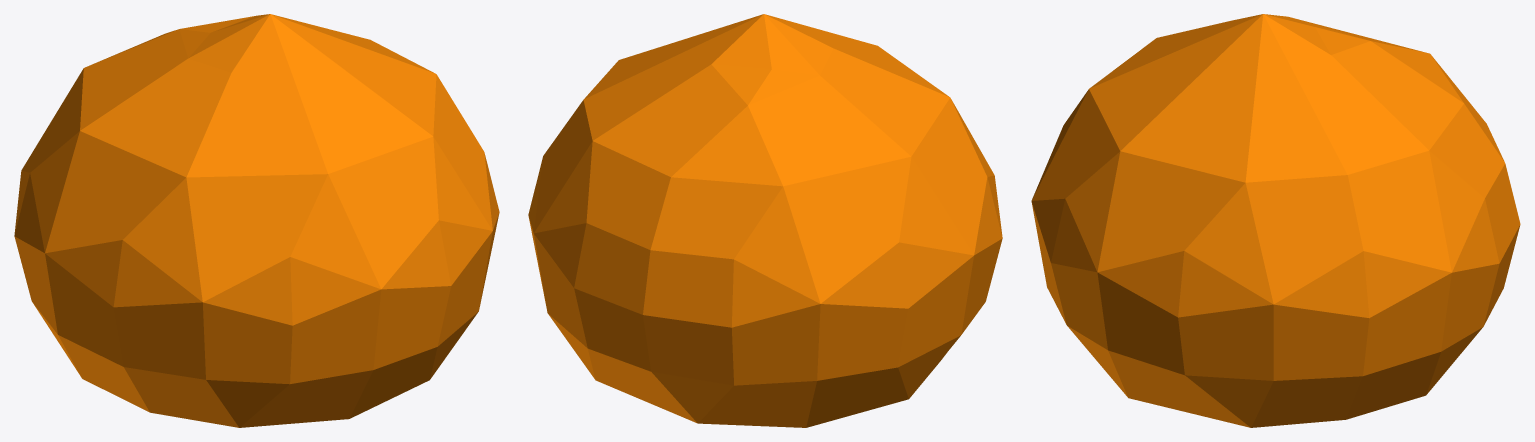
File: Orange.fbx
3 renders of one model, left to right at view 1: azimuth 30°, elevation 25°; view 2: azimuth 150°, elevation 25°; view 3: azimuth 270°, elevation 25°, orthographic. The views are drawn at different scales.
Visible parts, largest first — view 1: Orange; view 2: Orange; view 3: Orange.
Part boxes in pixels (x1,y1,x2,y2): Orange: [14, 14, 499, 427]; Orange: [528, 14, 1002, 427]; Orange: [1031, 14, 1520, 427].
Bounding box in the file's own units: 15.86 × 14.47 × 15.78.
